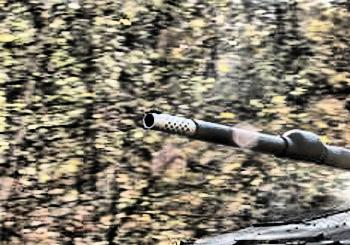tanks: (145, 113, 350, 171), (183, 212, 350, 245)
